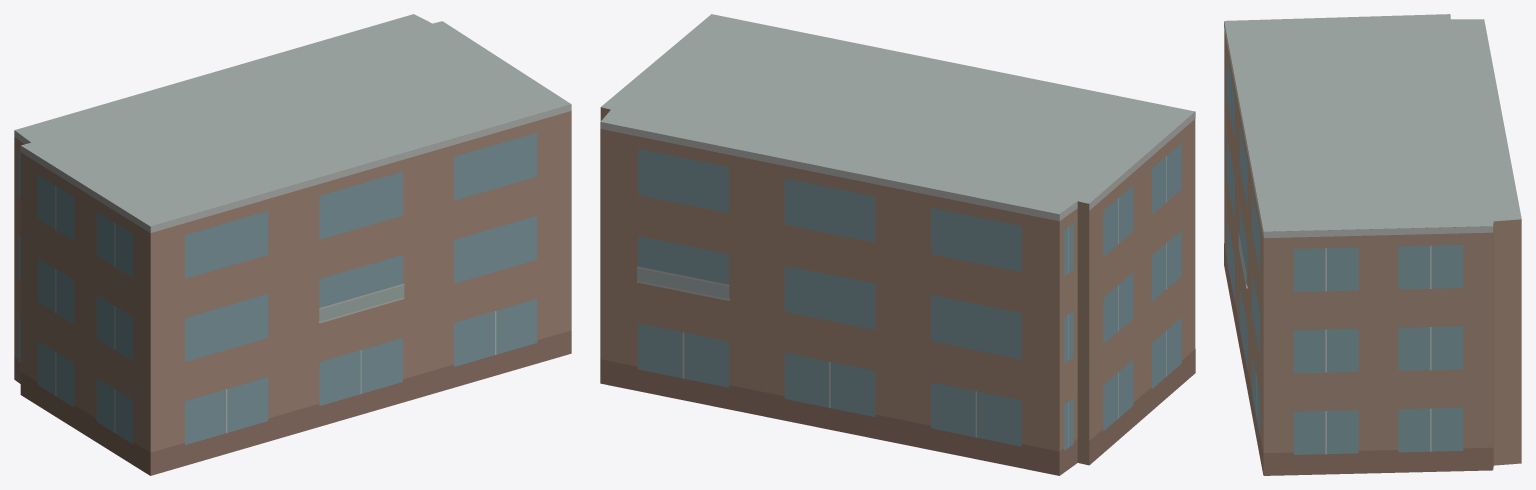
Rendered from survey-upis-32704205.glb.
The picture shows the model from 3 angles, left to right: view 1: azimuth 30°, elevation 25°; view 2: azimuth 150°, elevation 25°; view 3: azimuth 270°, elevation 25°; orthographic projection. The views are drawn at different scales.
Parts seen in each view (by area): view 1: survey-upis-32704205.tmp; view 2: survey-upis-32704205.tmp; view 3: survey-upis-32704205.tmp.
Boxes of the visible parts, x1,y1,x2,y2 form: survey-upis-32704205.tmp: (14,14,571,475); survey-upis-32704205.tmp: (600,14,1195,475); survey-upis-32704205.tmp: (1224,14,1521,475).
Size of the model in its own units: 17.5 by 9.15 by 10.12.
